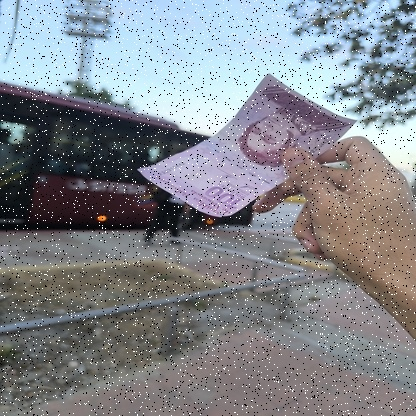one_hundred-front-vef: (136, 72, 357, 218)
